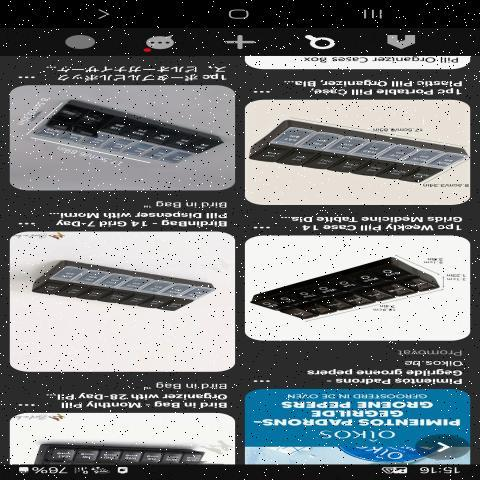PillBox: (248, 109, 463, 198), (252, 249, 452, 338), (25, 258, 227, 332), (19, 106, 227, 175)
